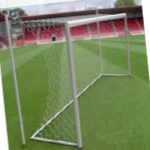goals: (26, 13, 132, 148)
